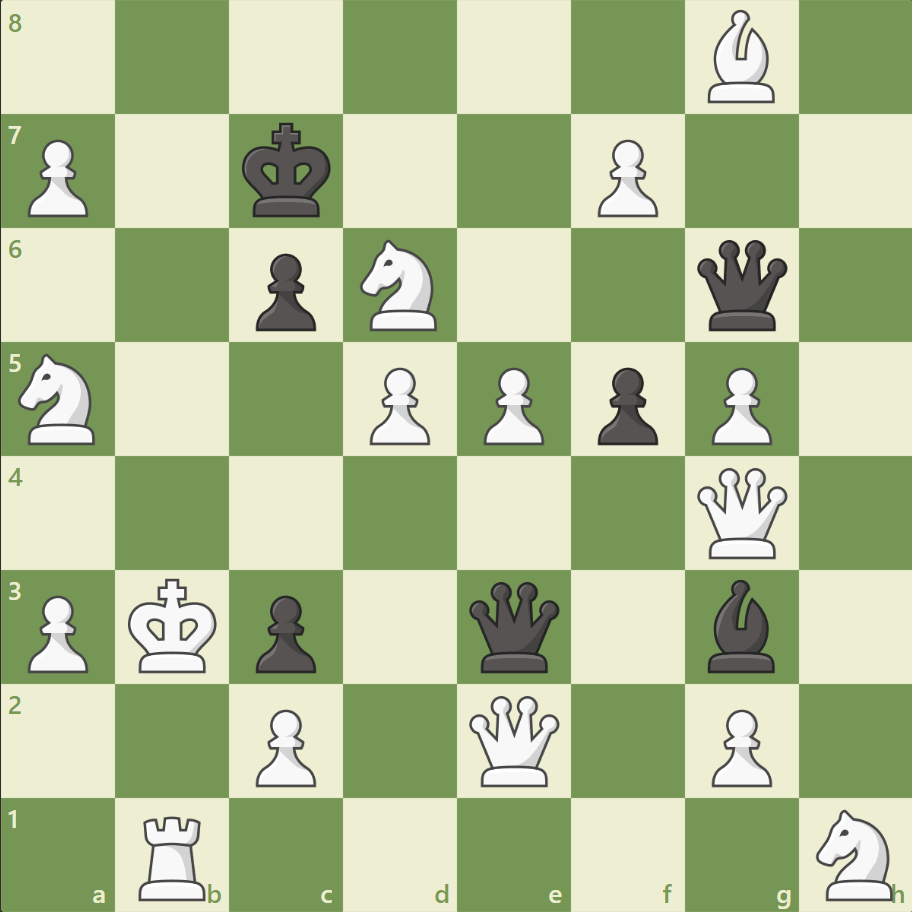B: (698, 6, 782, 109)
K: (124, 571, 224, 679)
N: (351, 234, 449, 337), (11, 348, 108, 450), (806, 802, 903, 904)
P: (20, 132, 95, 223), (474, 359, 549, 450), (701, 359, 776, 450), (20, 586, 95, 677), (247, 700, 322, 791), (701, 700, 776, 791), (588, 132, 662, 223), (361, 359, 435, 450)
Q: (691, 463, 790, 562), (464, 690, 563, 789)
R: (133, 806, 215, 904)
b: (698, 574, 782, 676)
k: (238, 117, 338, 225)
p: (247, 246, 322, 337), (247, 586, 322, 677), (588, 359, 662, 450)
q: (464, 576, 563, 676), (691, 236, 790, 335)
